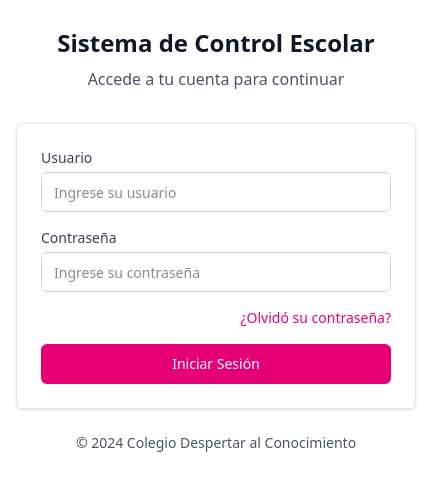
Test case: Login › muestra error si los campos están vacíos
Step 1. Click the button "Iniciar Sesión" → (216, 364), box [41, 344, 391, 384]
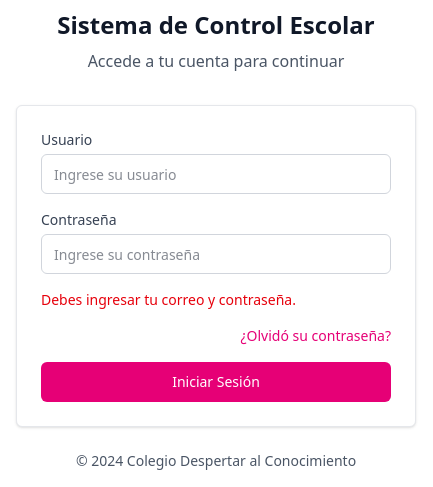
Result: the text "Debes ingresar tu correo y contraseña." is shown at [41, 290, 296, 309]
